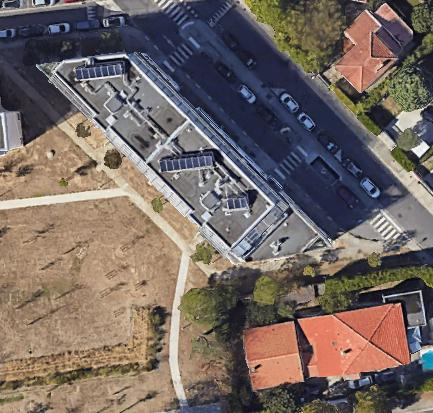immeuble: (41, 13, 337, 304)
maison: (241, 303, 410, 393), (320, 0, 420, 95)
